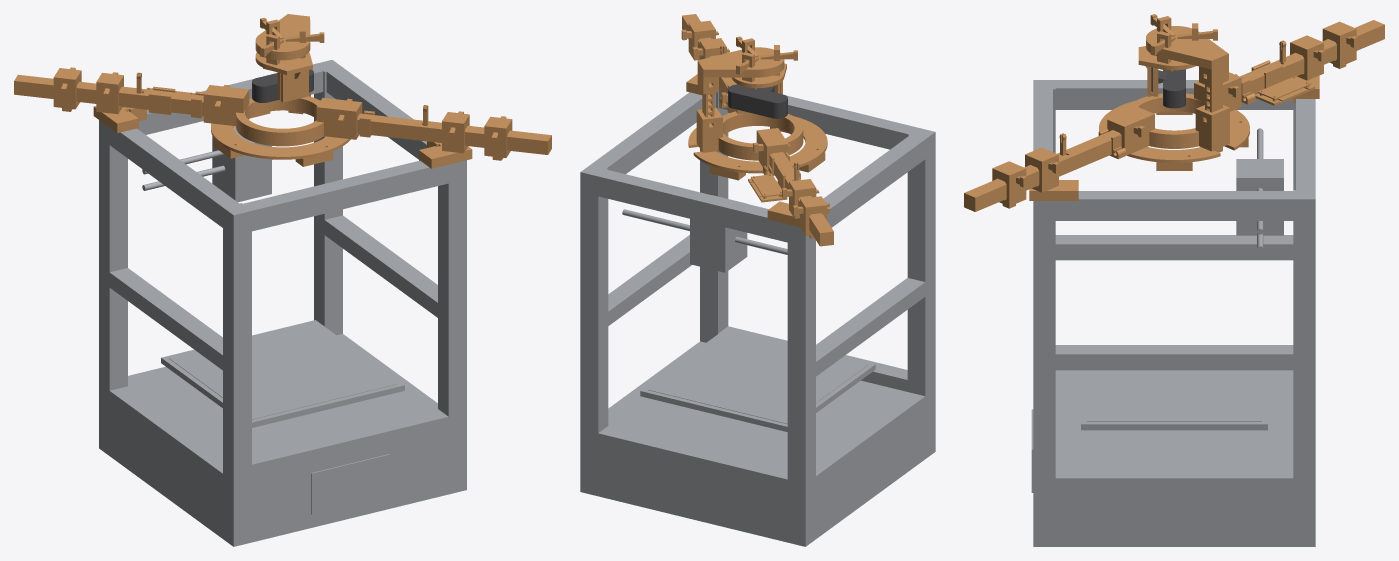
The model's file is mount-k1se.glb.
The picture shows the model from 3 angles, left to right: view 1: azimuth 30°, elevation 25°; view 2: azimuth 150°, elevation 25°; view 3: azimuth 270°, elevation 25°; orthographic projection. The views are drawn at different scales.
Parts seen in each view (by area): view 1: printer, mount, c920; view 2: printer, mount, c920; view 3: printer, mount, c920.
Part boxes in pixels (x1=…): printer: x1=99, y1=60, x2=466, y2=546; mount: x1=14, y1=14, x2=551, y2=168; c920: x1=252, y1=69, x2=313, y2=102; printer: x1=580, y1=88, x2=935, y2=546; mount: x1=681, y1=14, x2=833, y2=246; c920: x1=728, y1=84, x2=787, y2=118; printer: x1=1031, y1=80, x2=1315, y2=546; mount: x1=964, y1=14, x2=1384, y2=211; c920: x1=1151, y1=67, x2=1185, y2=108.
Bounding box in the file's own units: 0.5289 × 0.6395 × 0.5289.
